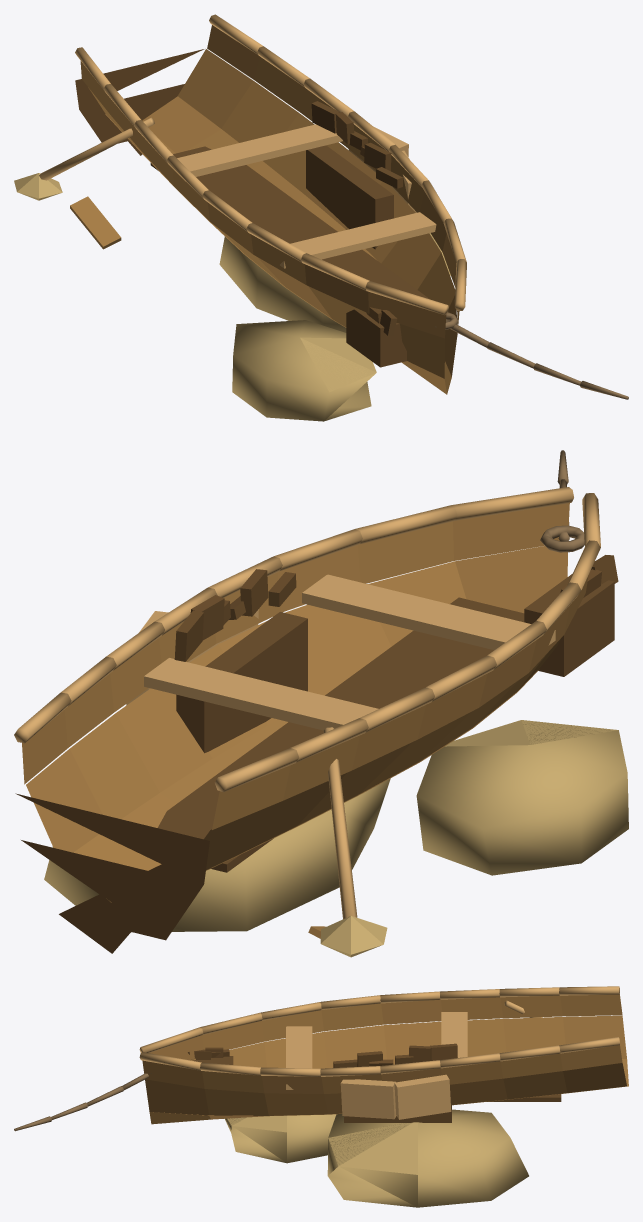
The model's file is RowboatBeached.fbx.
3 renders of one model, top to bottom at view 1: azimuth 30°, elevation 25°; view 2: azimuth 150°, elevation 25°; view 3: azimuth 270°, elevation 25°, orthographic. The views are drawn at different scales.
Parts seen in each view (by area): view 1: RowboatBeached; view 2: RowboatBeached; view 3: RowboatBeached.
Part boxes in pixels (box(x1,y1,x2,y2)): RowboatBeached: box(14, 14, 628, 421); RowboatBeached: box(14, 450, 628, 957); RowboatBeached: box(14, 986, 628, 1207).
Size of the model in its own units: 233 by 149 by 513.
